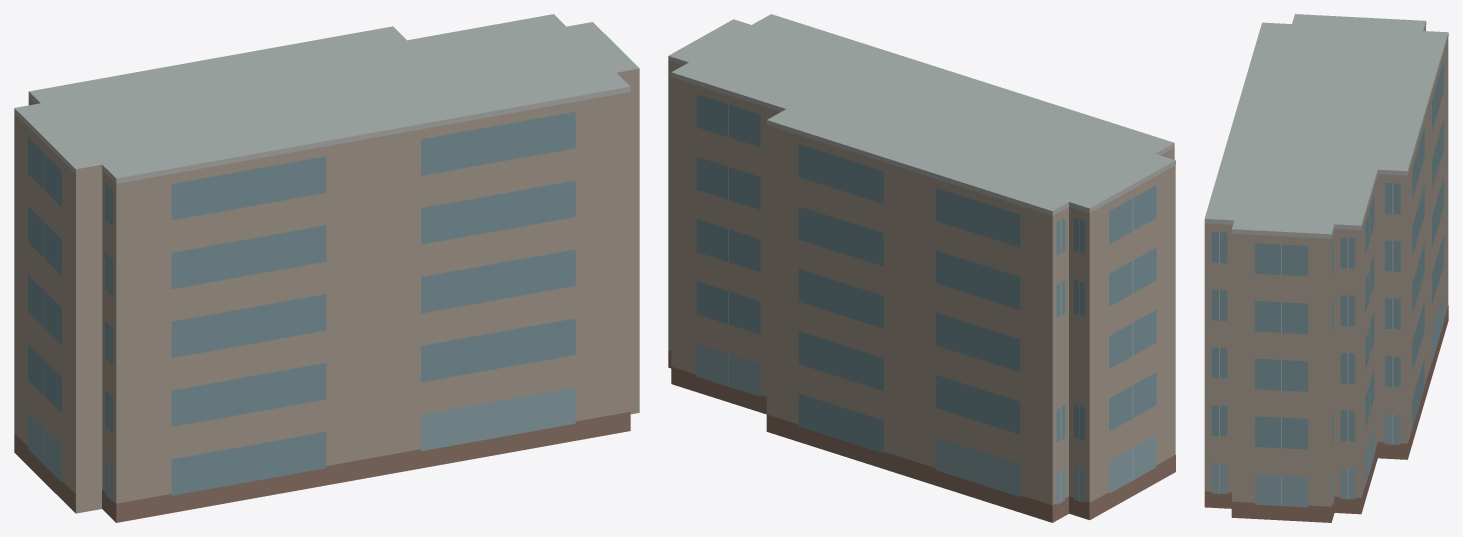
File: survey-upis-32778258.glb
3 renders of one model, left to right at view 1: azimuth 30°, elevation 25°; view 2: azimuth 150°, elevation 25°; view 3: azimuth 270°, elevation 25°, orthographic. The views are drawn at different scales.
Visible parts, largest first — view 1: survey-upis-32778258.tmp; view 2: survey-upis-32778258.tmp; view 3: survey-upis-32778258.tmp.
Part boxes in pixels (x1,y1,x2,y2): survey-upis-32778258.tmp: (14, 14, 639, 522); survey-upis-32778258.tmp: (668, 14, 1175, 522); survey-upis-32778258.tmp: (1204, 14, 1448, 522).
Size of the model in its own units: 26.05 by 15.9 by 12.19.
